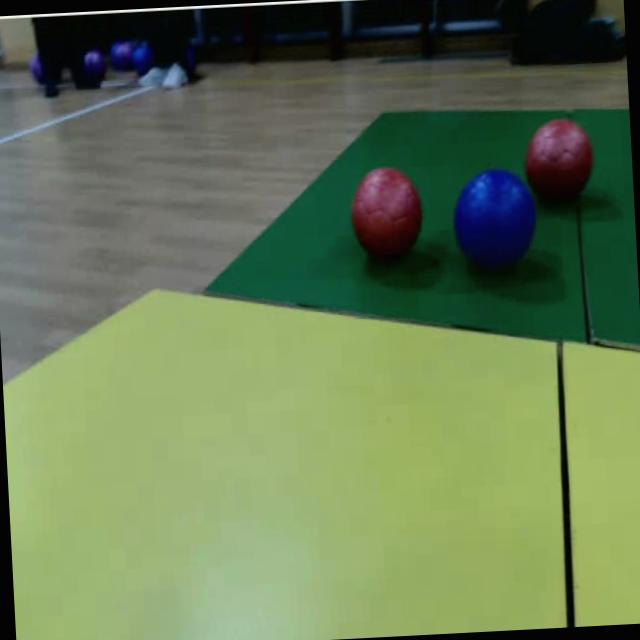blue_ball: (450, 166, 538, 276)
red_ball: (349, 166, 426, 264), (524, 117, 596, 202)
